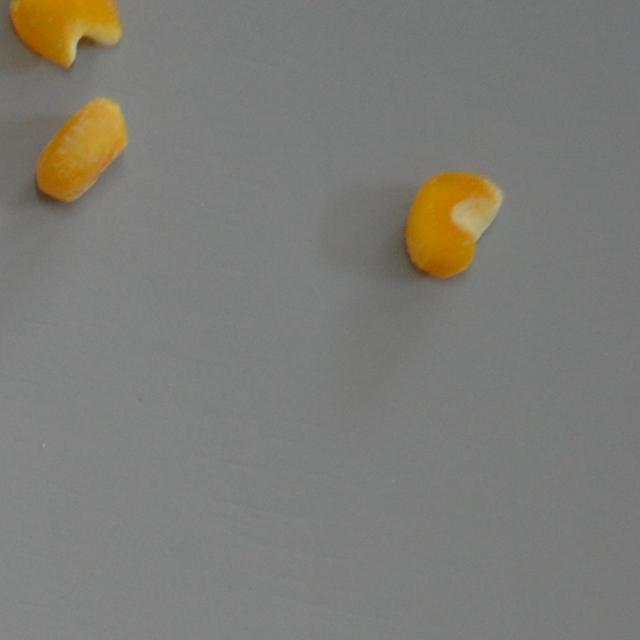dañado: (398, 166, 506, 285), (28, 96, 132, 210)
no_canjicado: (6, 2, 126, 78)
